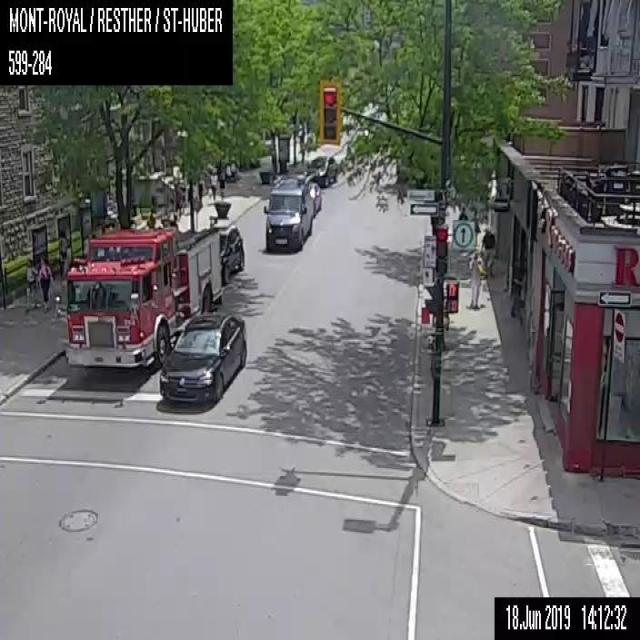pedestrian: (64, 228, 224, 373), (468, 252, 487, 309), (36, 255, 54, 312), (479, 227, 495, 279), (24, 261, 36, 308), (172, 181, 183, 220), (469, 209, 480, 247), (209, 167, 217, 199), (218, 170, 226, 200), (146, 208, 156, 227), (457, 204, 468, 219), (196, 178, 202, 202)
vehicle: (159, 312, 246, 403), (263, 168, 318, 251), (212, 225, 244, 282), (307, 156, 336, 184), (308, 182, 320, 214)
